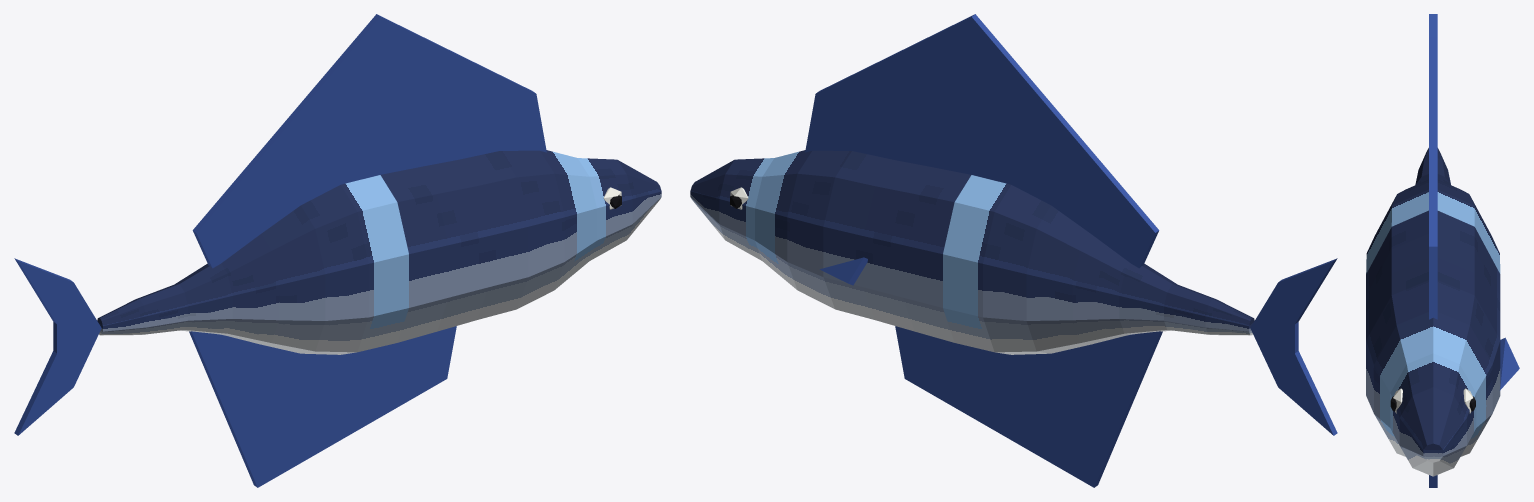
The model's file is sailfish.glb.
3 views of the same model, side by side, from view 1: azimuth 30°, elevation 25°; view 2: azimuth 150°, elevation 25°; view 3: azimuth 270°, elevation 25° (orthographic). The views are drawn at different scales.
Parts seen in each view (by area): view 1: fish_sailfish; view 2: fish_sailfish; view 3: fish_sailfish.
Boxes of the visible parts, left/top/right/bottom form: fish_sailfish: left=14, top=14, right=661, bottom=487; fish_sailfish: left=690, top=14, right=1337, bottom=487; fish_sailfish: left=1366, top=14, right=1519, bottom=487.
Bounding box in the file's own units: 1.15 × 0.7565 × 0.2178.
Materials: 5 (1 with a texture image).
